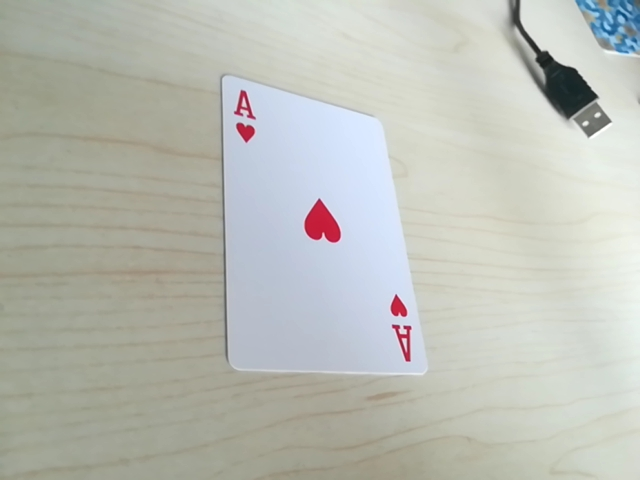hx a: (224, 85, 266, 155), (383, 293, 418, 365)
